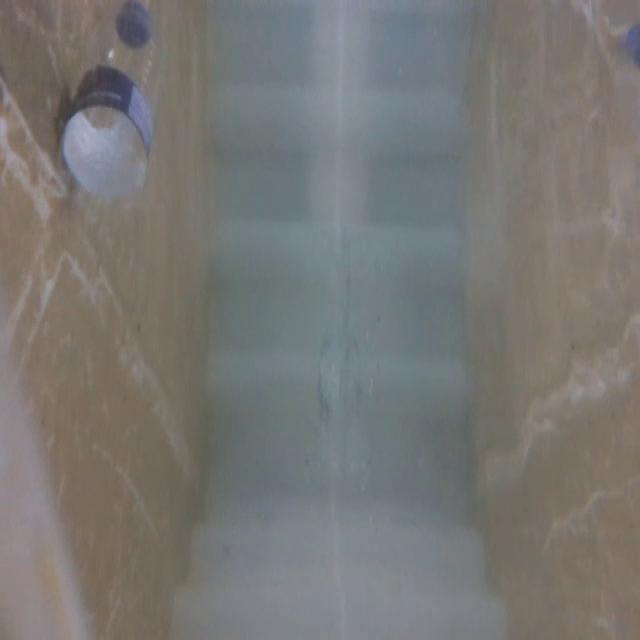plastic bottle: (46, 0, 176, 218)
